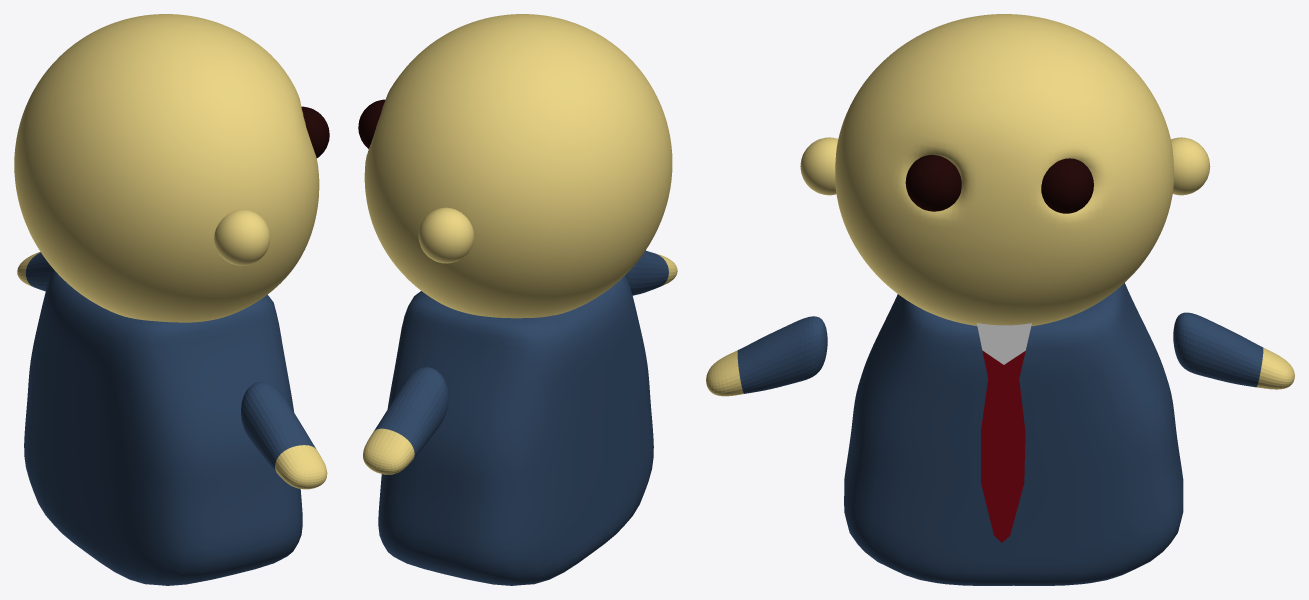
File: Mainchara(2).fbx
The picture shows the model from 3 angles, left to right: view 1: azimuth 30°, elevation 25°; view 2: azimuth 150°, elevation 25°; view 3: azimuth 270°, elevation 25°; orthographic projection. The views are drawn at different scales.
Visible parts, largest first — view 1: Head, Body, Hand, Ear.001, Hand.001, Eye.001; view 2: Head, Body, Hand.001, Ear, Hand, Eye; view 3: Head, Body, Tie, Hand, Hand.001, Eye.001, Eye, Ear, Ear.001.
Boxes of the visible parts, left/top/right/bottom form: Head: left=14, top=14, right=319, bottom=322; Body: left=24, top=270, right=302, bottom=585; Hand: left=241, top=382, right=327, bottom=489; Ear.001: left=214, top=209, right=270, bottom=265; Hand.001: left=17, top=252, right=53, bottom=291; Eye.001: left=301, top=106, right=329, bottom=158; Head: left=364, top=14, right=672, bottom=318; Body: left=378, top=276, right=653, bottom=585; Hand.001: left=363, top=367, right=448, bottom=474; Ear: left=418, top=207, right=474, bottom=263; Hand: left=625, top=250, right=677, bottom=295; Eye: left=358, top=99, right=385, bottom=148; Head: left=835, top=14, right=1173, bottom=326; Body: left=844, top=283, right=1183, bottom=585; Tie: left=976, top=323, right=1031, bottom=542; Hand: left=706, top=316, right=827, bottom=396; Hand.001: left=1173, top=312, right=1294, bottom=389; Eye.001: left=905, top=155, right=961, bottom=211; Eye: left=1041, top=158, right=1093, bottom=213; Ear: left=1171, top=137, right=1210, bottom=195; Ear.001: left=800, top=137, right=838, bottom=195.
Bounding box in the file's own units: 102 × 193 × 195.
